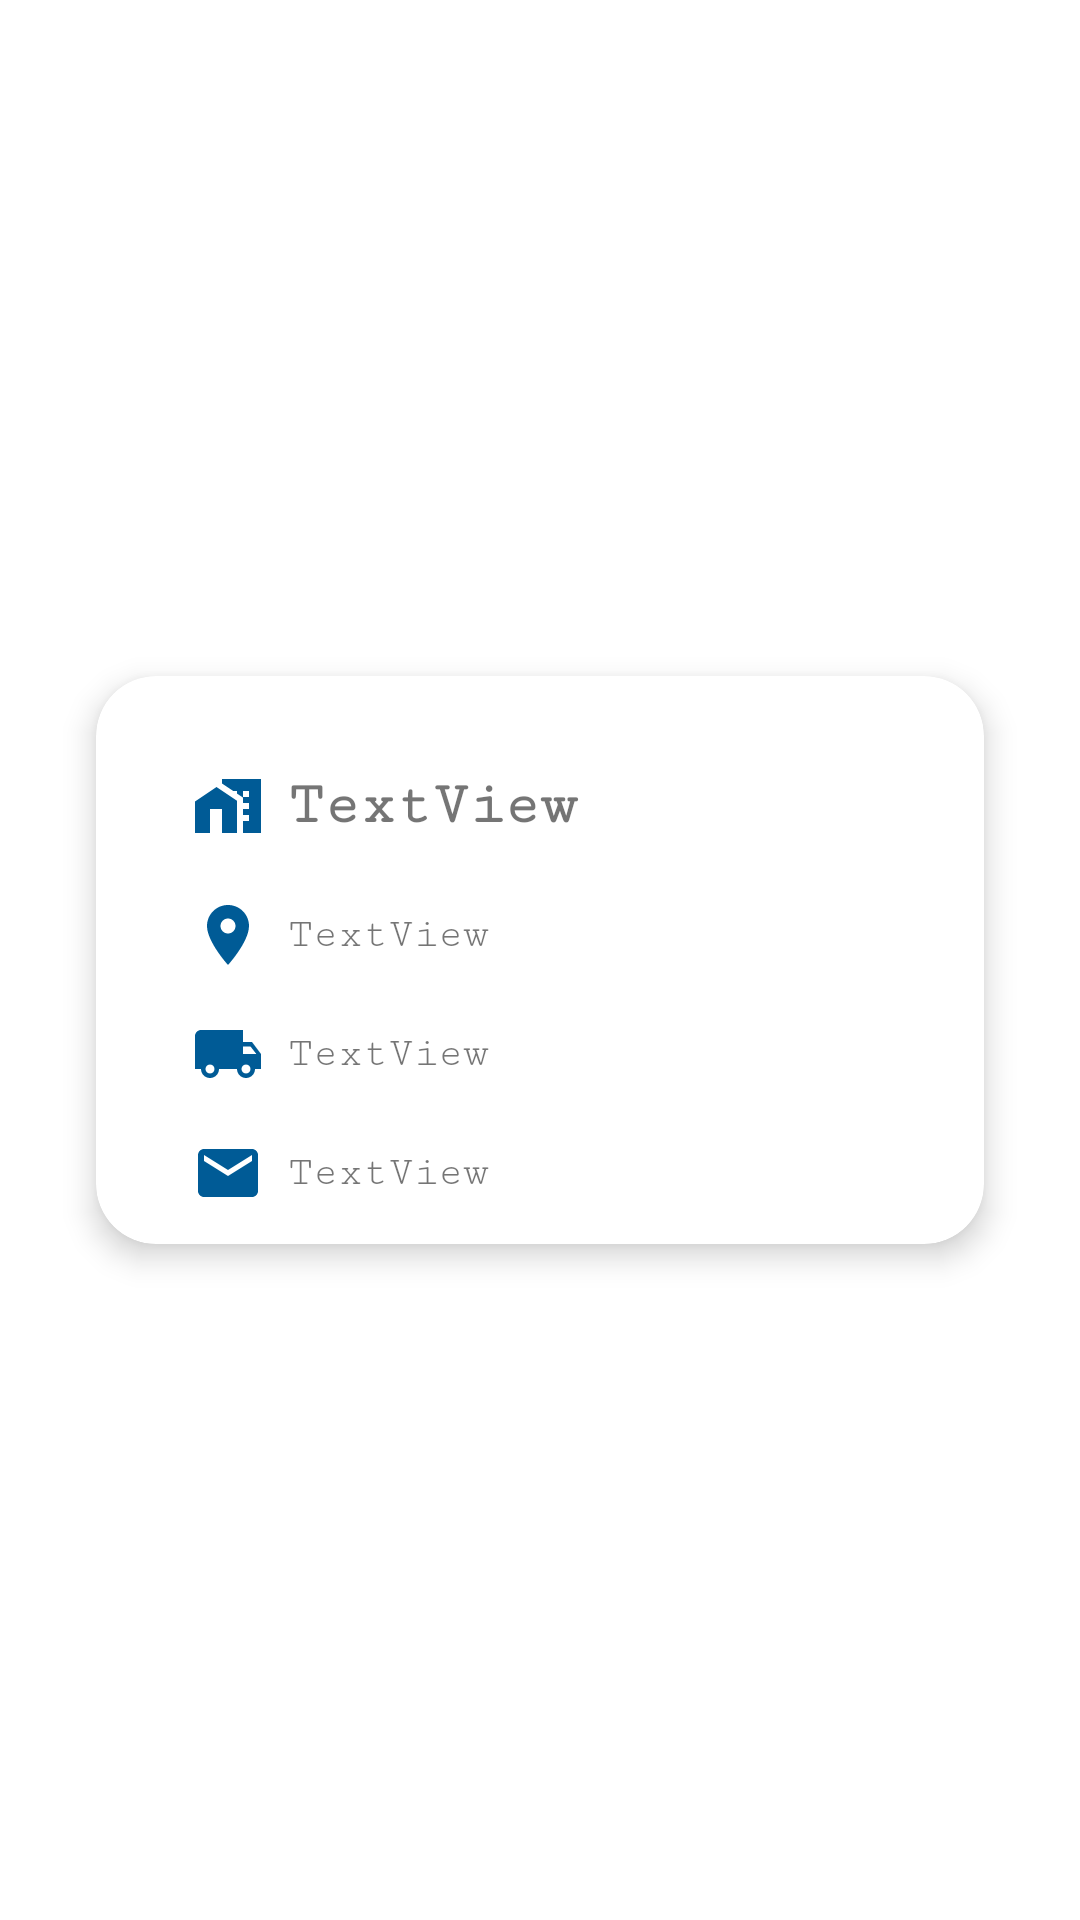

Named icons in this screenshot (1080 x 1920) and their centers, (x=x, y=y):
home work: (x=228, y=806)
local post office: (x=228, y=1173)
local shipping: (x=228, y=1054)
place: (x=228, y=935)
